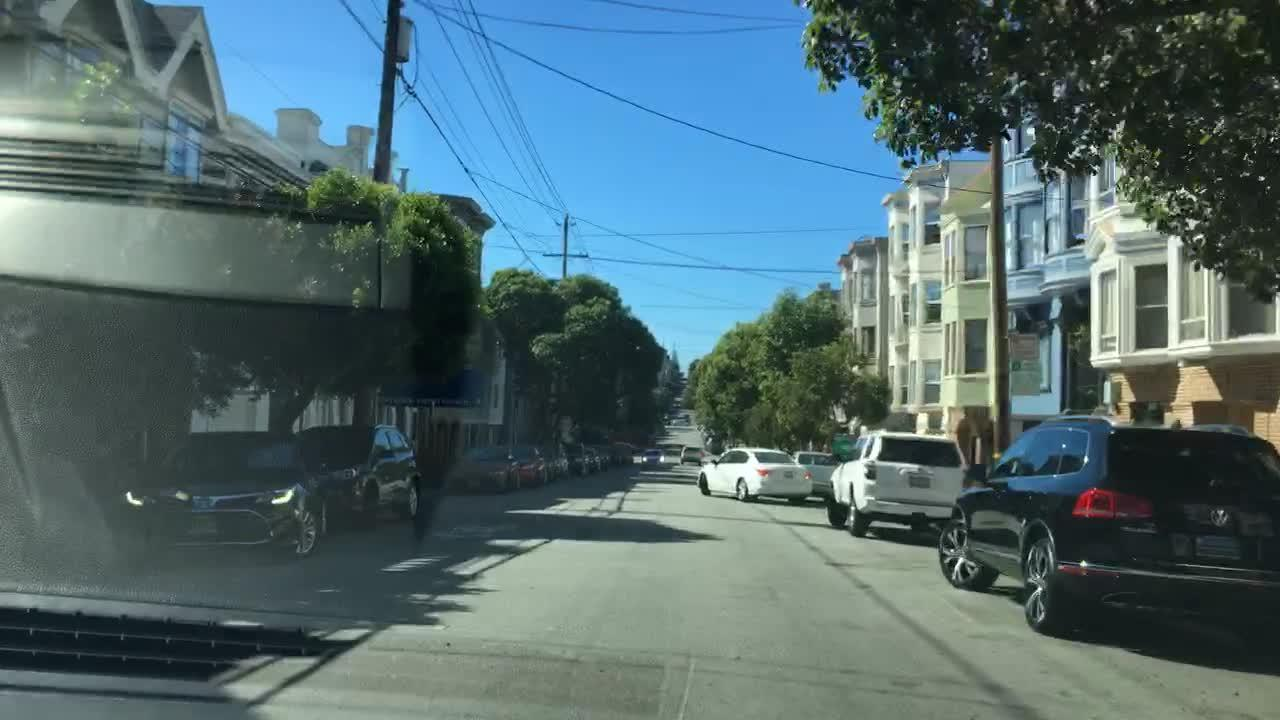Volkswagen: (1208, 506, 1234, 529)
